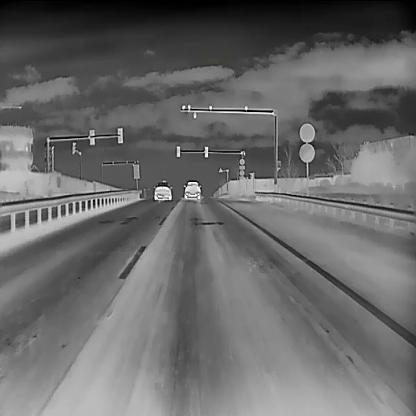car: (153, 180, 172, 200), (183, 180, 201, 199)
